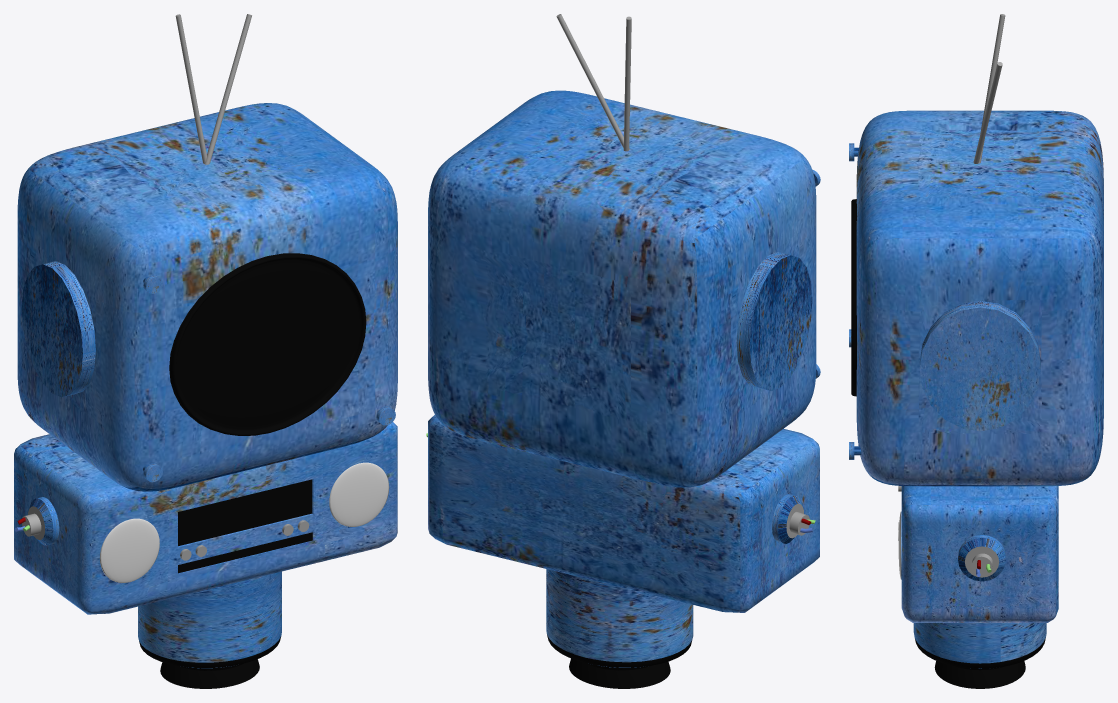
File: robot.fbx
The picture shows the model from 3 angles, left to right: view 1: azimuth 30°, elevation 25°; view 2: azimuth 150°, elevation 25°; view 3: azimuth 270°, elevation 25°; orthographic projection. The views are drawn at different scales.
Parts seen in each view (by area): view 1: pasted__pasted__pasted__pasted__pasted__pCylinder15; view 2: pasted__pasted__pasted__pasted__pasted__pCylinder15; view 3: pasted__pasted__pasted__pasted__pasted__pCylinder15.
Boxes of the visible parts, x1,y1,x2,y2 form: pasted__pasted__pasted__pasted__pasted__pCylinder15: (14,14,397,688); pasted__pasted__pasted__pasted__pasted__pCylinder15: (426,14,820,688); pasted__pasted__pasted__pasted__pasted__pCylinder15: (849,14,1103,688).
Size of the model in its own units: 3.2 by 5.26 by 1.89.
8 materials, 1 textured.
